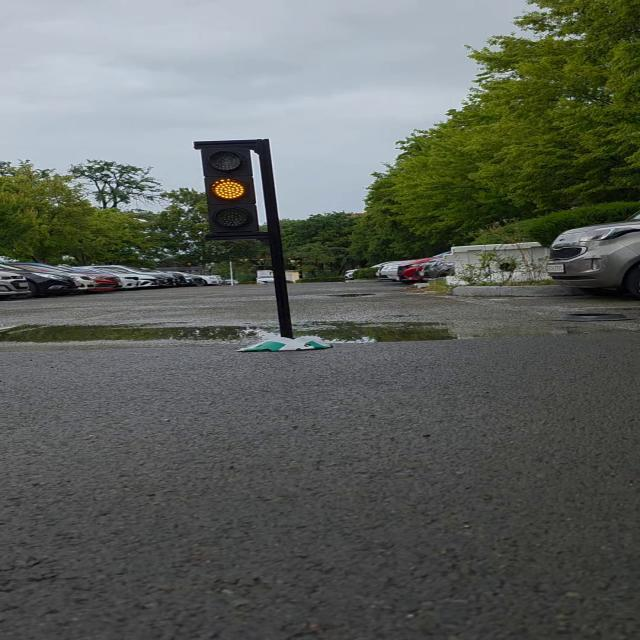yellow: (197, 140, 268, 237)
